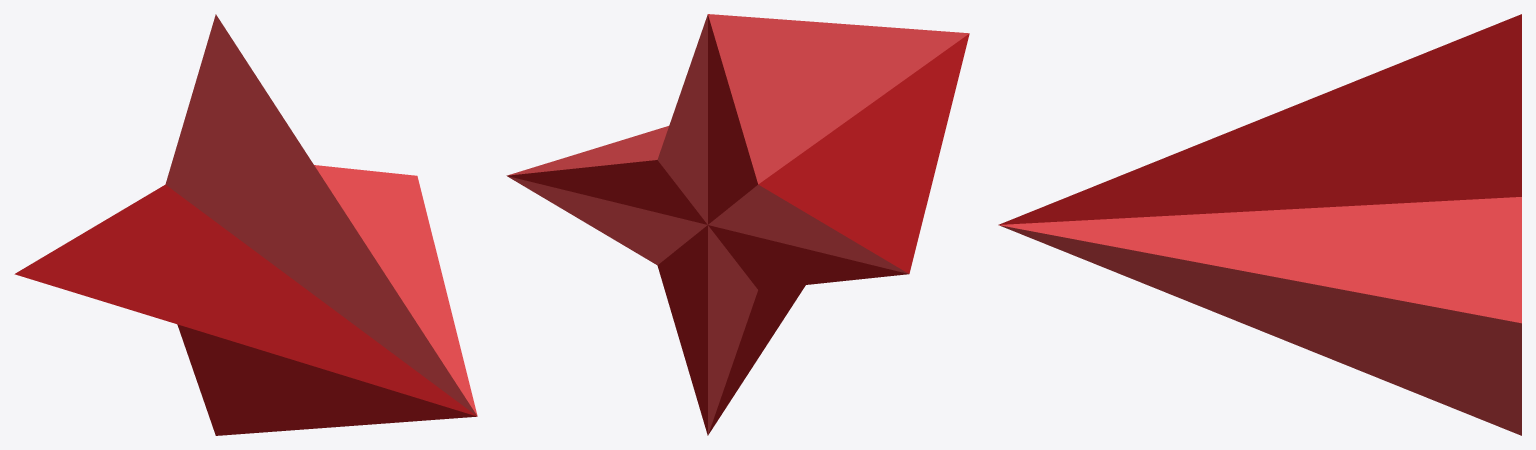
The picture shows the model from 3 angles, left to right: view 1: azimuth 30°, elevation 25°; view 2: azimuth 150°, elevation 25°; view 3: azimuth 270°, elevation 25°; orthographic projection.
Visible parts, largest first — view 1: ss3d_71_pulse; view 2: ss3d_71_pulse; view 3: ss3d_71_pulse.
Part boxes in pixels (x1=…): ss3d_71_pulse: x1=14, y1=14, x2=477, y2=435; ss3d_71_pulse: x1=506, y1=14, x2=969, y2=435; ss3d_71_pulse: x1=998, y1=14, x2=1521, y2=435.
Size of the model in its own units: 0.625 by 0.625 by 0.7031.
Materials: 1 (1 with a texture image).
